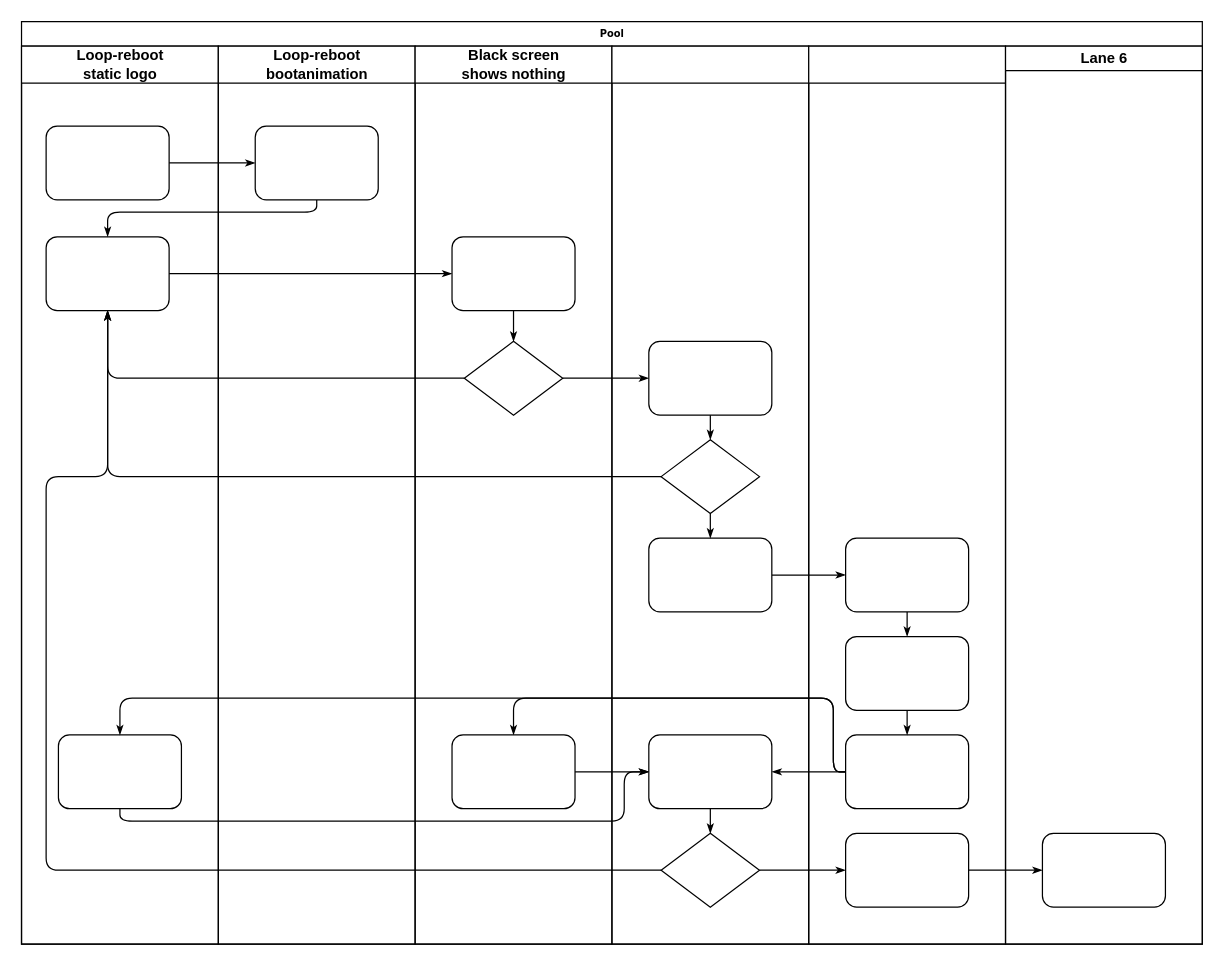
This 1224x966 diagram has some shape labels left out. The shapes that lost their labels are listed below. From the top down, each one's box as (x1, y1, x2, y2) in pixels, then its label:
(611, 45, 809, 944): Black screen shows no signal
(807, 45, 1006, 944): App crash
